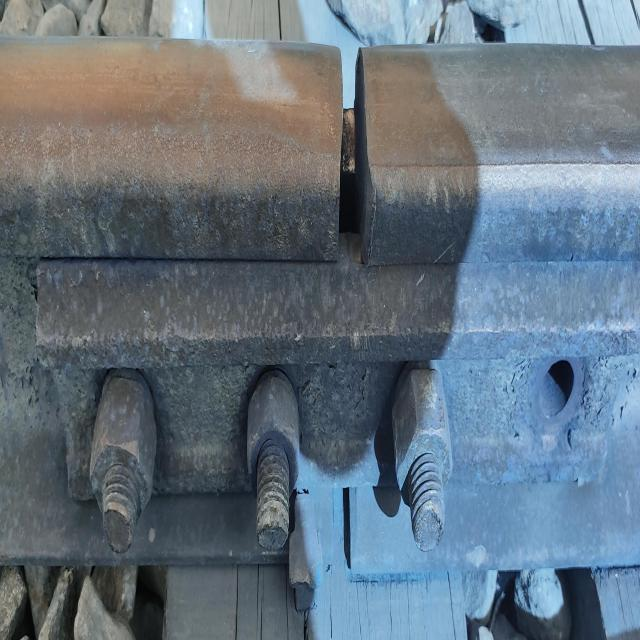Defective Joint: (36, 253, 640, 555)
